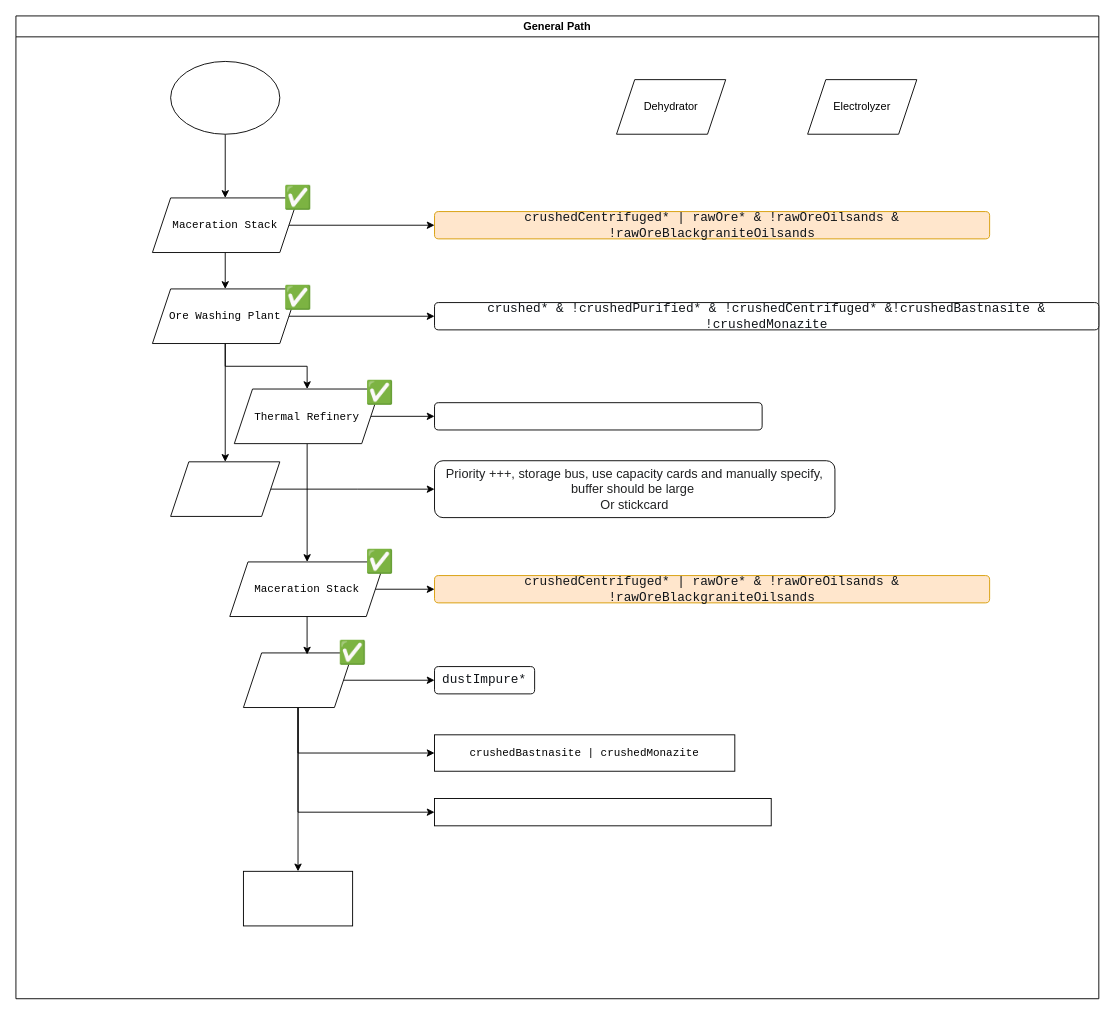
Image size: 1115x1015. Some labels were removed from this diagram. The centre of each missing label's shape, as x and y in pixels:
"*dust* | *gem*" goes at point 298,898.
"Any Ore related" goes at point 225,97.
"Centrifuge" goes at point 298,680.
"crushedPurified* & !*Galena* & !*Sphalerite*" goes at point 598,416.
"crushedPurifiedGalena | crushedPurifiedSphalerite" goes at point 602,812.
"Sifter" goes at point 225,488.
